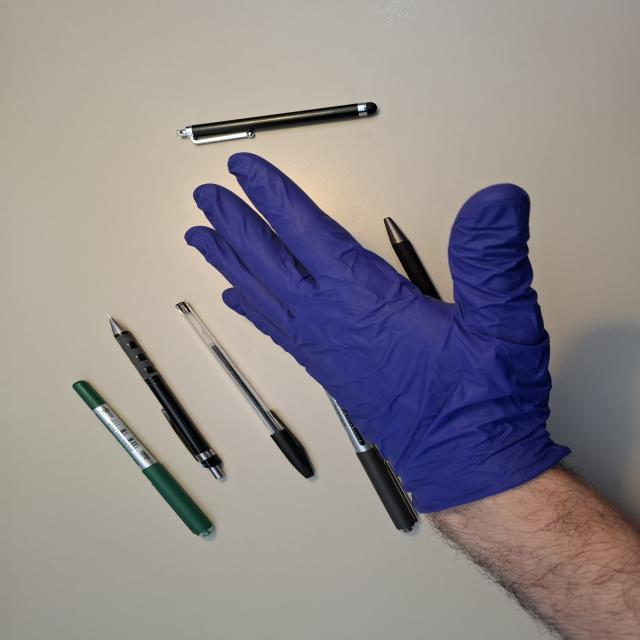glove_on: (180, 150, 556, 517)
